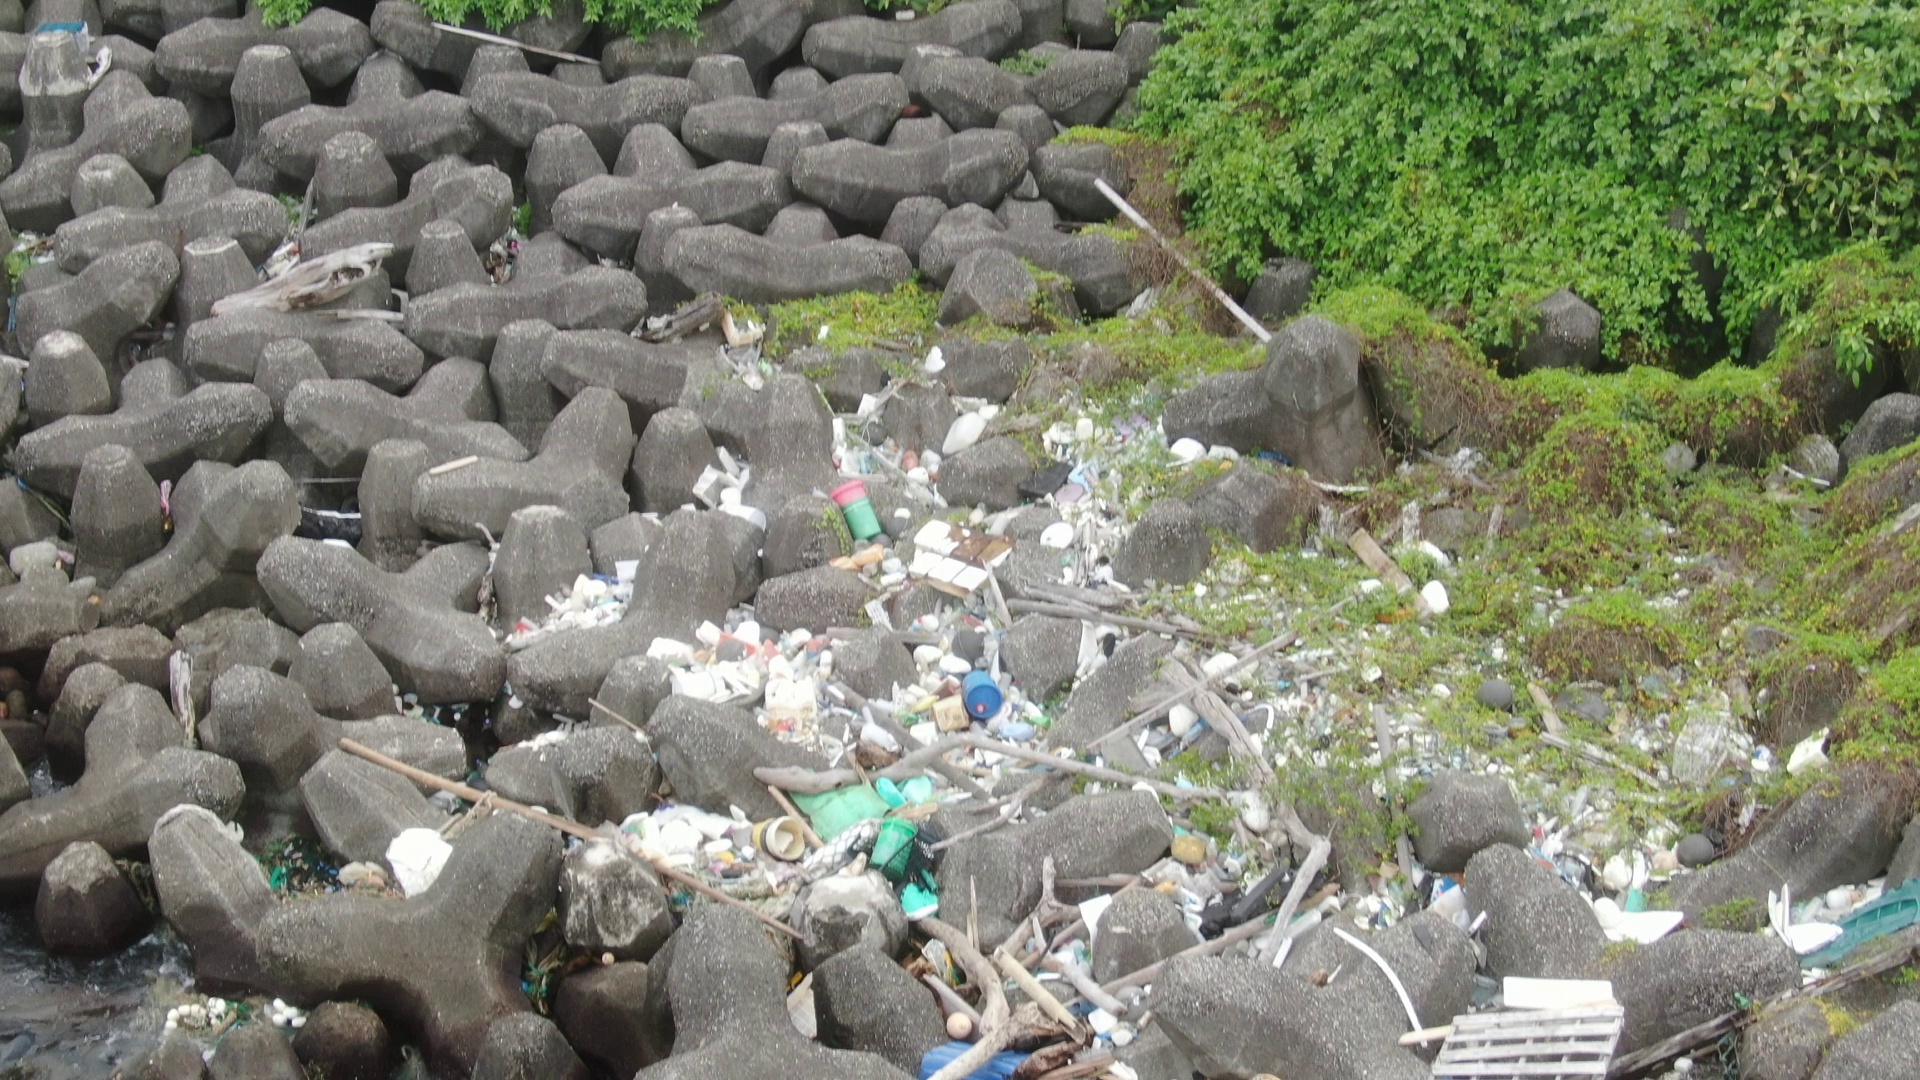garbage: (498, 313, 1449, 1080), (1453, 806, 1912, 1080), (373, 674, 477, 815), (137, 978, 324, 1048), (251, 827, 386, 902), (32, 4, 113, 74), (1774, 717, 1851, 789), (148, 467, 195, 547), (473, 222, 530, 285)
